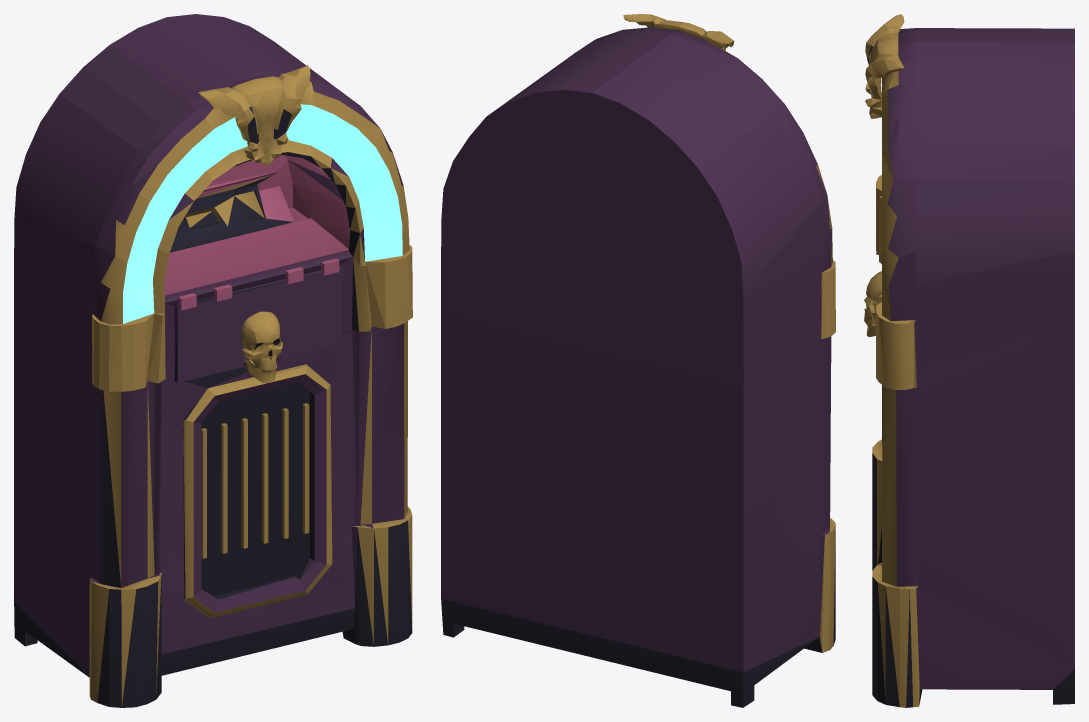
The model's file is jukebox_ghoul.glb.
The picture shows the model from 3 angles, left to right: view 1: azimuth 30°, elevation 25°; view 2: azimuth 150°, elevation 25°; view 3: azimuth 270°, elevation 25°; orthographic projection.
Parts seen in each view (by area): view 1: jukebox_ghoul, glow; view 2: jukebox_ghoul; view 3: jukebox_ghoul.
Part boxes in pixels (left/top/right/bottom): jukebox_ghoul: left=14, top=14, right=412, bottom=707; glow: left=123, top=104, right=402, bottom=323; jukebox_ghoul: left=441, top=14, right=835, bottom=707; jukebox_ghoul: left=864, top=14, right=1074, bottom=707.
Bounding box in the file's own units: 0.9269 × 1.65 × 0.5337.
